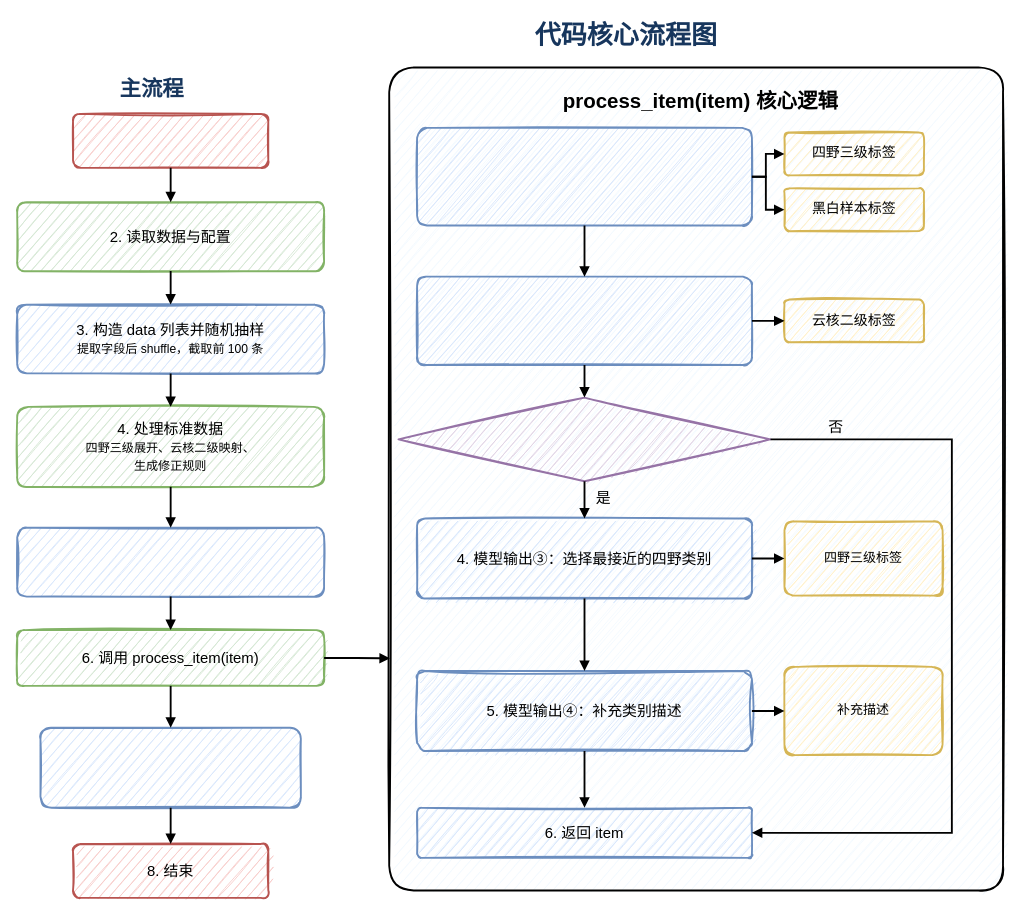
Some shapes in this 1019 by 914 pixel diagram are drawn without their labels. Each missing label, with the centre of its shape:
"1. 开始" goes at pixel 170 140.
"1. 模型输出①：四野分类" goes at pixel 584 176.
"2. 模型输出②：云核分类" goes at pixel 584 320.
"3. 四野三级标签 == 其他类型黑样本？" goes at pixel 584 439.
"5. 并发处理每条数据 ThreadPoolExecutor(max_workers=5)" goes at pixel 170 561.
"7. 保存结果 save_jsonl + save_dict_list_to_excel" goes at pixel 170 767.
